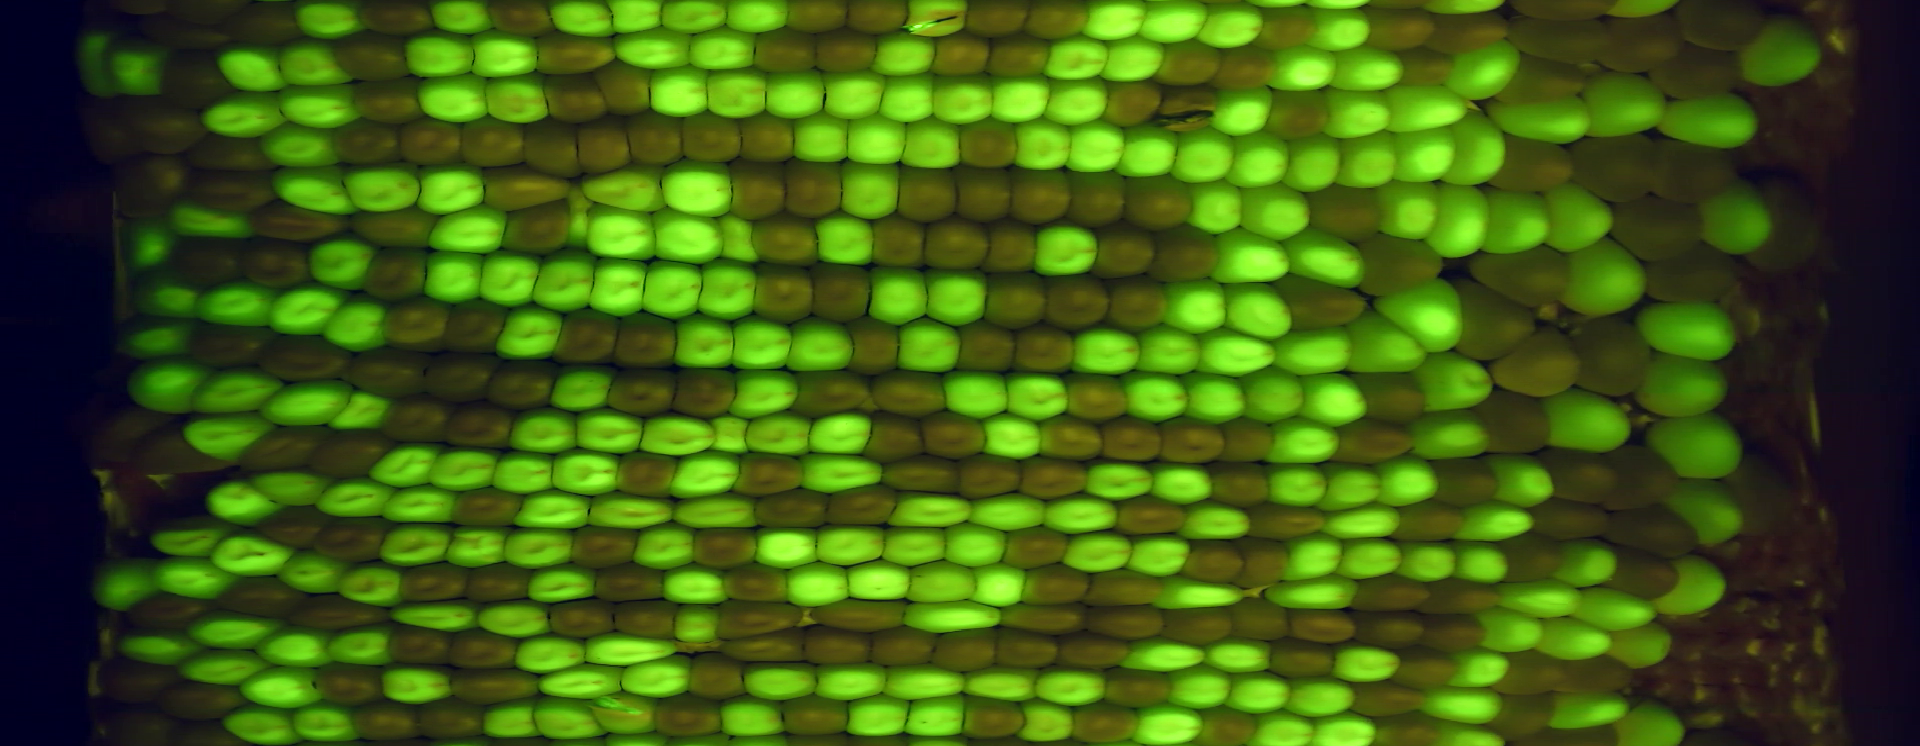fluorescent: (1631, 345, 1738, 415), (1651, 412, 1741, 484), (1540, 392, 1636, 458), (1560, 243, 1648, 314), (1379, 283, 1468, 353), (1741, 18, 1824, 89), (1640, 303, 1738, 363), (1700, 179, 1776, 256), (1581, 71, 1667, 138), (1660, 96, 1762, 149), (1667, 480, 1745, 549), (1652, 554, 1731, 619), (1489, 94, 1591, 145), (1413, 350, 1499, 409), (182, 410, 280, 462), (258, 376, 356, 428), (1281, 229, 1367, 288), (124, 356, 213, 413), (1344, 312, 1429, 371), (650, 206, 727, 269), (1211, 228, 1296, 285), (1191, 326, 1283, 379), (1485, 187, 1558, 254), (1272, 323, 1360, 376), (197, 363, 285, 415), (1544, 183, 1614, 249), (587, 198, 658, 263), (1431, 183, 1490, 261), (1298, 367, 1374, 428), (276, 81, 371, 127), (1447, 110, 1505, 187), (200, 89, 290, 138), (1484, 451, 1559, 510), (268, 281, 347, 336), (1238, 366, 1309, 426), (962, 660, 1043, 713), (1236, 184, 1313, 239), (724, 312, 797, 370), (1572, 586, 1660, 633), (902, 598, 1007, 638), (922, 265, 989, 327), (533, 252, 601, 314), (1224, 281, 1294, 341), (1600, 619, 1678, 673), (387, 593, 481, 637), (1537, 615, 1619, 665), (1494, 578, 1584, 624), (1071, 321, 1142, 379), (785, 318, 858, 374), (800, 446, 887, 492), (662, 162, 737, 216), (1180, 367, 1250, 425), (880, 660, 969, 706), (667, 448, 744, 500), (238, 664, 324, 709), (884, 488, 976, 530), (306, 236, 377, 292), (276, 167, 355, 216), (479, 249, 542, 310), (1386, 126, 1458, 180), (498, 304, 564, 363), (336, 165, 424, 209), (1123, 370, 1190, 428), (421, 247, 489, 305), (1033, 220, 1101, 278), (131, 266, 204, 318), (214, 40, 288, 93), (671, 312, 740, 369), (481, 69, 550, 125), (1172, 127, 1240, 184), (1386, 81, 1464, 130), (819, 69, 890, 122), (1378, 180, 1440, 241), (571, 405, 647, 456), (587, 492, 683, 532), (258, 624, 336, 673), (197, 281, 280, 326), (170, 200, 261, 241), (1411, 414, 1491, 461), (467, 29, 545, 77), (371, 437, 438, 492), (173, 646, 267, 685), (808, 213, 877, 267), (1325, 85, 1393, 138), (156, 554, 233, 601), (204, 479, 282, 527), (1003, 369, 1073, 421), (894, 321, 964, 374), (109, 37, 170, 97), (643, 260, 705, 318), (867, 266, 931, 323), (729, 367, 800, 419), (413, 72, 491, 119), (260, 124, 338, 170), (431, 208, 509, 255), (703, 69, 770, 122), (1060, 528, 1136, 576), (1029, 668, 1111, 712), (583, 630, 681, 666), (648, 62, 713, 118), (373, 663, 457, 706), (1133, 326, 1204, 376), (91, 557, 162, 608), (1163, 278, 1229, 332), (638, 412, 719, 456), (673, 492, 764, 532), (743, 412, 816, 461), (590, 691, 666, 737), (380, 523, 456, 570), (509, 405, 578, 457), (612, 28, 697, 70), (838, 162, 900, 218), (744, 660, 827, 703), (1548, 688, 1635, 729), (1269, 418, 1342, 465), (1474, 609, 1548, 657), (984, 71, 1051, 124), (940, 369, 1011, 418), (416, 167, 487, 216), (404, 29, 479, 76), (1455, 502, 1538, 544), (967, 491, 1051, 533), (1422, 686, 1507, 726), (928, 72, 996, 124), (516, 488, 594, 532), (1280, 137, 1341, 194), (1229, 132, 1292, 187), (811, 521, 887, 566), (1379, 456, 1442, 510), (751, 523, 824, 570), (279, 38, 353, 85), (682, 27, 762, 70), (583, 170, 670, 209), (533, 696, 610, 740), (504, 526, 576, 573), (816, 660, 890, 706), (902, 559, 977, 604), (700, 261, 758, 320), (1261, 463, 1329, 513), (762, 69, 829, 119), (590, 257, 644, 320), (1153, 575, 1248, 610), (1102, 33, 1167, 85), (73, 29, 121, 99), (294, 1, 376, 42), (253, 468, 333, 510), (879, 69, 938, 125), (1613, 703, 1690, 746), (118, 314, 195, 356), (277, 545, 348, 592), (550, 361, 613, 413), (551, 450, 623, 495), (1138, 1, 1210, 47), (842, 559, 918, 601), (383, 481, 459, 524), (1329, 47, 1404, 89), (1449, 48, 1518, 94), (1014, 118, 1071, 174), (1046, 492, 1119, 537), (1266, 575, 1360, 609), (1335, 135, 1396, 187), (1267, 48, 1338, 93), (1315, 462, 1382, 510), (1044, 75, 1112, 122), (122, 628, 200, 670), (1182, 499, 1256, 541), (845, 115, 909, 165), (478, 598, 553, 639), (190, 612, 285, 646), (901, 118, 962, 169), (786, 559, 853, 605), (223, 704, 298, 746), (493, 450, 562, 495), (1070, 119, 1125, 175), (978, 413, 1043, 461), (629, 523, 696, 570), (514, 635, 590, 675), (214, 534, 290, 575), (1226, 671, 1293, 717), (807, 412, 874, 457), (429, 446, 496, 491), (322, 303, 389, 348), (1120, 637, 1206, 673), (624, 657, 696, 699), (327, 624, 398, 666), (1210, 87, 1273, 135), (1120, 122, 1176, 178), (317, 478, 392, 518), (1398, 540, 1460, 589), (1130, 706, 1209, 744), (1338, 537, 1403, 582), (784, 118, 849, 163), (845, 695, 913, 737), (872, 32, 940, 75), (149, 521, 227, 559), (538, 665, 629, 697), (343, 563, 407, 609), (1144, 465, 1217, 505), (1325, 503, 1403, 540), (331, 383, 389, 432), (293, 703, 364, 744), (970, 561, 1030, 609), (444, 524, 509, 568), (661, 562, 730, 604), (1560, 541, 1621, 588), (944, 523, 1010, 566), (1044, 37, 1111, 80), (1187, 181, 1242, 233), (1284, 677, 1357, 717), (1085, 463, 1157, 502), (1078, 1, 1147, 42), (1204, 2, 1262, 50), (1162, 666, 1231, 707), (1200, 635, 1275, 671), (1330, 644, 1402, 682), (1127, 533, 1190, 576), (880, 524, 948, 563), (552, 1, 620, 40), (479, 699, 544, 740), (1281, 538, 1343, 579), (531, 565, 598, 604), (716, 698, 789, 734), (658, 1, 732, 36), (1310, 9, 1371, 50), (1011, 701, 1076, 740), (1245, 710, 1314, 746), (900, 699, 969, 735), (430, 1, 498, 37), (1449, 649, 1511, 687), (902, 1, 971, 36), (1307, 713, 1378, 746), (129, 220, 178, 268), (673, 601, 724, 648), (1456, 544, 1510, 587), (605, 1, 670, 36), (719, 214, 762, 266), (560, 189, 595, 250), (722, 1, 789, 33), (1429, 724, 1511, 746), (710, 413, 752, 456), (729, 729, 787, 746), (907, 733, 973, 746), (602, 733, 666, 746), (1431, 1, 1505, 12), (1613, 1, 1674, 13), (1297, 1, 1369, 9), (1248, 1, 1307, 7)
nonfluorescent: (1449, 281, 1543, 359), (1468, 243, 1575, 307), (1751, 176, 1822, 269), (1632, 247, 1744, 306), (1610, 196, 1709, 261), (129, 416, 233, 475), (1571, 132, 1662, 200), (1349, 236, 1452, 294), (1273, 269, 1369, 331), (1577, 320, 1651, 397), (1588, 16, 1689, 72), (1490, 339, 1583, 398), (122, 89, 204, 156), (1649, 45, 1747, 99), (1652, 137, 1738, 198), (116, 152, 193, 218), (1507, 13, 1611, 62), (1476, 392, 1555, 456), (1488, 132, 1575, 189), (1599, 507, 1698, 556), (328, 32, 415, 87), (73, 89, 141, 160), (1498, 51, 1588, 104), (1731, 451, 1789, 533), (1305, 183, 1387, 239), (1351, 370, 1431, 426), (383, 293, 451, 360), (185, 318, 274, 369), (234, 236, 315, 292), (345, 347, 430, 399), (187, 163, 283, 209), (947, 159, 1016, 223), (421, 352, 498, 409), (262, 334, 350, 383), (751, 258, 814, 326), (780, 156, 847, 219), (164, 49, 233, 111), (1120, 171, 1196, 228), (360, 243, 431, 303), (242, 423, 327, 473), (1609, 544, 1682, 601), (1153, 222, 1220, 285), (96, 655, 184, 703), (918, 213, 993, 269), (807, 260, 869, 327), (552, 307, 621, 369), (1682, 1, 1763, 53), (1005, 162, 1071, 224), (710, 597, 809, 638), (600, 364, 678, 416), (1537, 446, 1615, 499), (217, 572, 300, 621), (456, 114, 528, 170), (1043, 269, 1111, 330), (1608, 450, 1675, 510), (307, 425, 386, 477), (743, 213, 822, 265), (1332, 418, 1418, 464), (895, 160, 960, 222), (616, 311, 683, 370), (485, 359, 560, 412), (478, 165, 572, 207), (158, 676, 255, 717), (1065, 167, 1129, 228), (727, 156, 789, 219), (517, 116, 582, 176), (529, 32, 617, 76), (252, 202, 351, 241), (171, 236, 249, 287), (793, 366, 871, 416), (733, 109, 803, 164), (444, 661, 542, 701), (1036, 412, 1107, 465), (624, 107, 684, 170), (984, 269, 1048, 330), (1093, 220, 1157, 281), (96, 405, 171, 456), (182, 134, 276, 174), (861, 410, 932, 463), (590, 58, 655, 115), (1152, 416, 1228, 465), (384, 392, 452, 447), (576, 116, 636, 178), (348, 78, 429, 124), (309, 512, 389, 557), (498, 205, 573, 254), (289, 588, 392, 624), (355, 207, 437, 251), (393, 557, 475, 601), (869, 369, 947, 415), (399, 115, 464, 170), (1059, 372, 1130, 423), (313, 659, 389, 706), (137, 16, 236, 51), (956, 318, 1019, 375), (333, 119, 407, 167), (675, 366, 740, 420), (869, 624, 940, 673), (1266, 88, 1333, 140), (446, 298, 504, 356), (920, 412, 989, 461), (1155, 82, 1220, 135), (218, 1, 300, 43), (981, 217, 1040, 274), (539, 72, 606, 122), (446, 401, 513, 451), (867, 213, 928, 268), (753, 27, 825, 73), (129, 594, 227, 628), (1104, 277, 1168, 330), (1215, 413, 1280, 464), (1429, 11, 1513, 50), (1016, 323, 1078, 377), (681, 110, 743, 163), (958, 120, 1022, 170), (694, 526, 764, 572), (1020, 452, 1090, 499), (844, 316, 902, 371), (467, 559, 540, 603), (731, 451, 802, 496), (347, 1, 440, 36), (752, 485, 830, 526), (829, 484, 896, 530), (951, 453, 1022, 497), (999, 598, 1087, 633), (780, 695, 855, 736), (1097, 416, 1166, 462), (993, 624, 1062, 669), (884, 454, 956, 497), (467, 1, 563, 33), (1256, 4, 1322, 50), (1429, 457, 1495, 503), (1531, 499, 1609, 538), (1362, 9, 1442, 47), (1085, 570, 1168, 606), (1348, 575, 1431, 611), (1157, 39, 1224, 85), (1495, 691, 1559, 739), (613, 595, 682, 639), (260, 501, 324, 548), (929, 32, 996, 77), (415, 698, 493, 736), (113, 706, 186, 746), (1084, 604, 1164, 641), (1056, 630, 1129, 670), (654, 696, 729, 735), (594, 562, 669, 601), (1158, 609, 1238, 646), (803, 624, 873, 665), (689, 652, 747, 702), (817, 27, 880, 72), (1209, 462, 1272, 507), (1069, 707, 1147, 744), (958, 696, 1029, 736), (618, 447, 678, 495), (1104, 80, 1166, 126), (926, 630, 1000, 668), (1224, 597, 1291, 639), (1271, 637, 1337, 680), (1187, 539, 1245, 587), (1217, 43, 1277, 89), (1021, 1, 1095, 39), (1248, 502, 1326, 538), (1395, 501, 1466, 540), (1498, 652, 1562, 695), (1003, 528, 1071, 568), (1025, 566, 1093, 606), (456, 485, 522, 527), (353, 699, 425, 737), (816, 599, 909, 628), (722, 563, 792, 603), (986, 36, 1053, 76), (1425, 576, 1499, 612), (1352, 680, 1425, 717), (1116, 494, 1184, 533), (1238, 537, 1289, 588), (573, 526, 640, 565), (1423, 610, 1490, 649), (448, 628, 519, 665), (1286, 608, 1357, 644), (389, 625, 458, 663), (1356, 609, 1428, 644), (1498, 537, 1559, 577), (1196, 708, 1261, 746), (549, 599, 617, 635), (1103, 670, 1172, 706), (1391, 49, 1457, 86), (1393, 650, 1460, 687), (726, 633, 812, 661), (956, 1, 1035, 32), (173, 717, 252, 746), (1509, 1, 1616, 22), (844, 1, 913, 32), (163, 1, 247, 26), (1561, 661, 1633, 690), (1374, 719, 1447, 746), (782, 1, 853, 28), (787, 728, 845, 746), (108, 1, 170, 17), (847, 731, 909, 746), (969, 735, 1033, 746), (1367, 1, 1429, 7), (1038, 739, 1082, 746), (493, 741, 553, 746)
